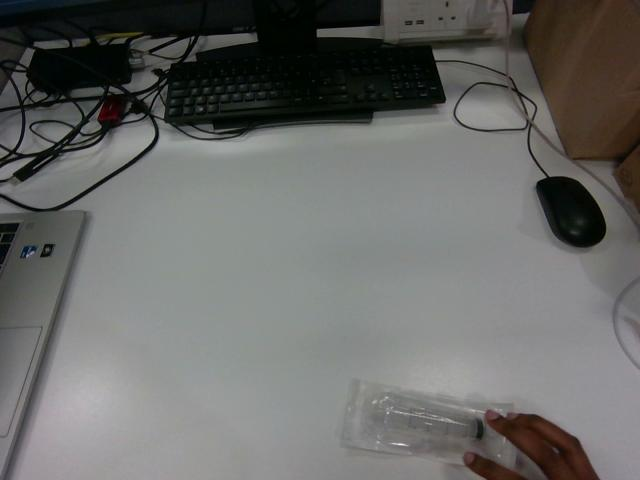syringe: (342, 380, 515, 467)
